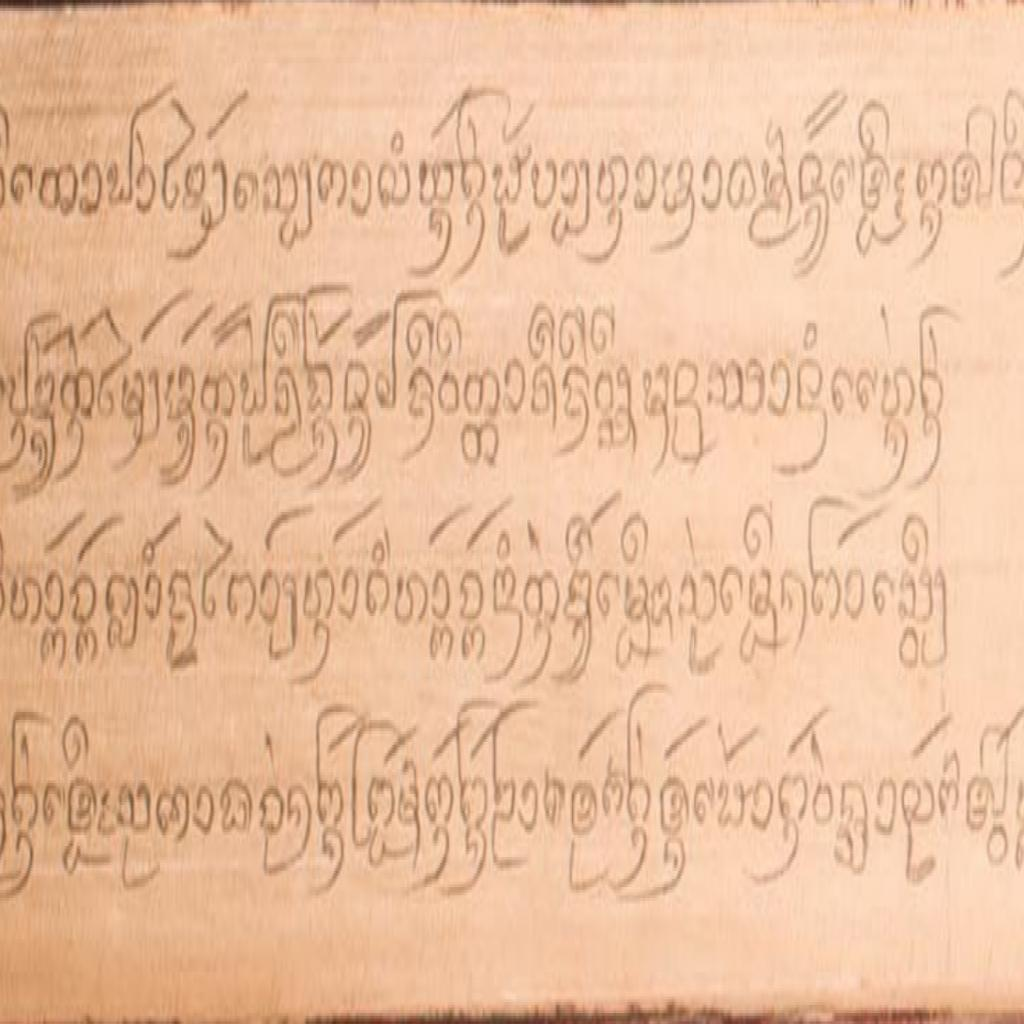LN006: (68, 568, 100, 631)
LN029: (807, 489, 843, 628)
